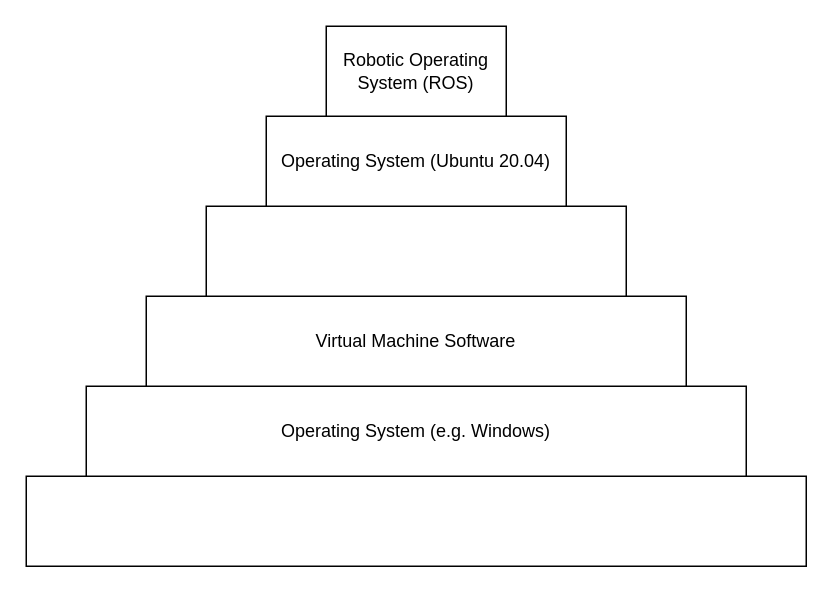
Image size: 833x593. Some labels were removed from this diagram. The shapes that lost their labels are listed below. From the top down, each one's centre as x and y in pixels, then its label:
At [415,250]: "Hardware Emulation".
At [415,520]: "Hardware".
